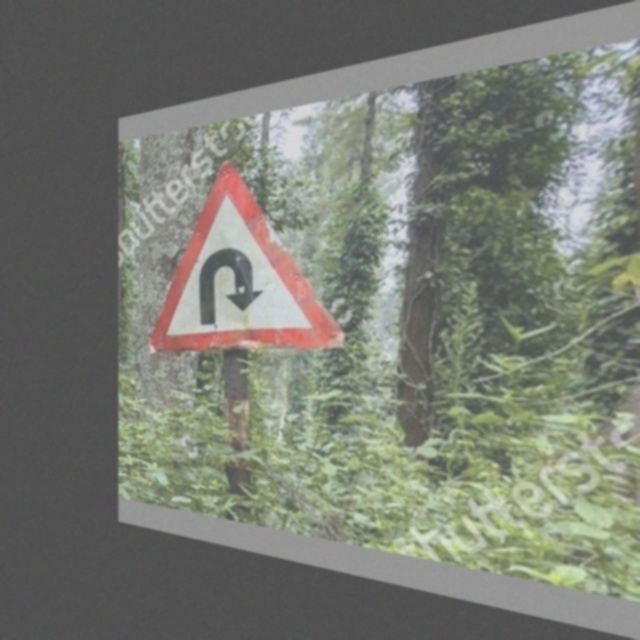Right_Hair_Pin_Bend: (150, 142, 343, 347)
